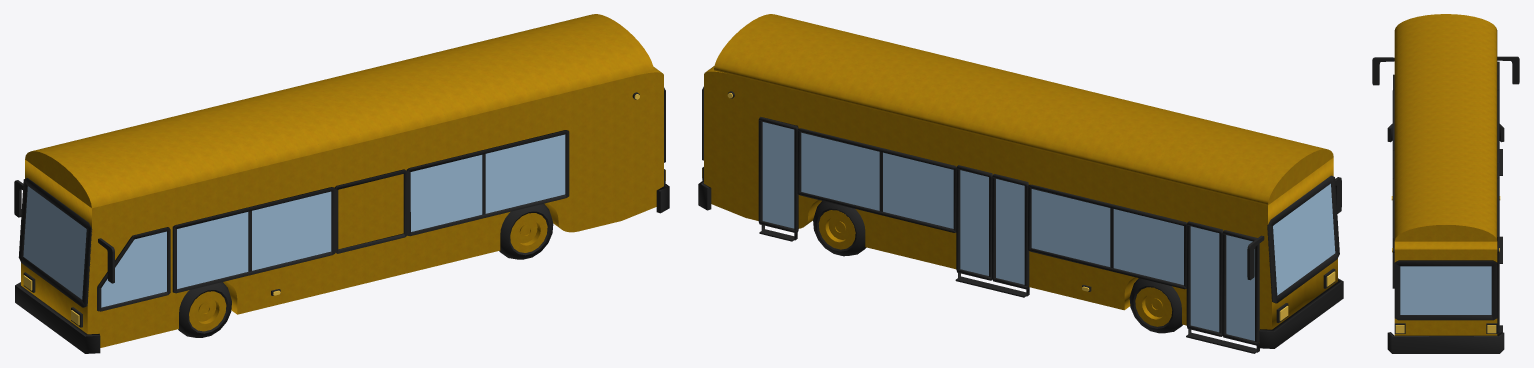
File: Bus.fbx
The picture shows the model from 3 angles, left to right: view 1: azimuth 30°, elevation 25°; view 2: azimuth 150°, elevation 25°; view 3: azimuth 270°, elevation 25°; orthographic projection. The views are drawn at different scales.
Parts seen in each view (by area): view 1: Extrusion Spline, Cylinder.004, Cube.014, Cube.016, Cube.025, Extrusion Spline.003, Spline.010, Spline.009, Spline.016, Spline.017, Torus.003, Spline.006 (+4 smaller); view 2: Cylinder.004, Extrusion Spline, Cube.012, Cube.010, Cube.025, Cube.020, Cube.008, Cube.005, Cube.006, Cube.009, Spline.007, Spline.008 (+11 smaller); view 3: Cylinder.004, Cube.018, Extrusion Spline, Spline.012, Spline.011, Spline.009, Extrusion Spline.001, Extrusion Spline.002, Spline.014, Spline.017, Spline.010, Spline.008 (+1 smaller).
Boxes of the visible parts, <box> form: Extrusion Spline: <box>21,66,663,347</box>; Cylinder.004: <box>25,14,653,208</box>; Cube.014: <box>410,134,565,231</box>; Cube.016: <box>177,191,331,288</box>; Cube.025: <box>23,186,86,299</box>; Extrusion Spline.003: <box>101,231,166,307</box>; Spline.010: <box>172,187,335,293</box>; Spline.009: <box>406,130,569,236</box>; Spline.016: <box>18,178,92,307</box>; Spline.017: <box>15,282,100,353</box>; Torus.003: <box>499,203,553,259</box>; Spline.006: <box>335,169,407,253</box>; Cylinder.004: <box>714,14,1333,205</box>; Extrusion Spline: <box>704,66,1337,342</box>; Cube.012: <box>1031,189,1183,284</box>; Cube.010: <box>801,132,953,228</box>; Cube.025: <box>1273,183,1335,295</box>; Cube.020: <box>762,122,794,228</box>; Cube.008: <box>1190,226,1219,332</box>; Cube.005: <box>960,170,988,275</box>; Cube.006: <box>996,179,1024,284</box>; Cube.009: <box>1226,235,1254,340</box>; Spline.007: <box>797,128,956,232</box>; Spline.008: <box>1028,184,1187,289</box>; Cylinder.004: <box>1394,14,1497,241</box>; Cube.018: <box>1400,266,1491,314</box>; Extrusion Spline: <box>1394,241,1497,335</box>; Spline.012: <box>1387,332,1504,353</box>; Spline.011: <box>1394,260,1497,320</box>; Spline.009: <box>1392,178,1394,288</box>; Extrusion Spline.001: <box>1497,56,1519,84</box>; Extrusion Spline.002: <box>1372,57,1394,85</box>; Spline.014: <box>1497,237,1499,333</box>; Spline.017: <box>1387,123,1504,142</box>; Spline.010: <box>1392,90,1394,150</box>; Spline.008: <box>1497,90,1499,149</box>.
Size of the model in its own units: 1401 by 419 by 398.
